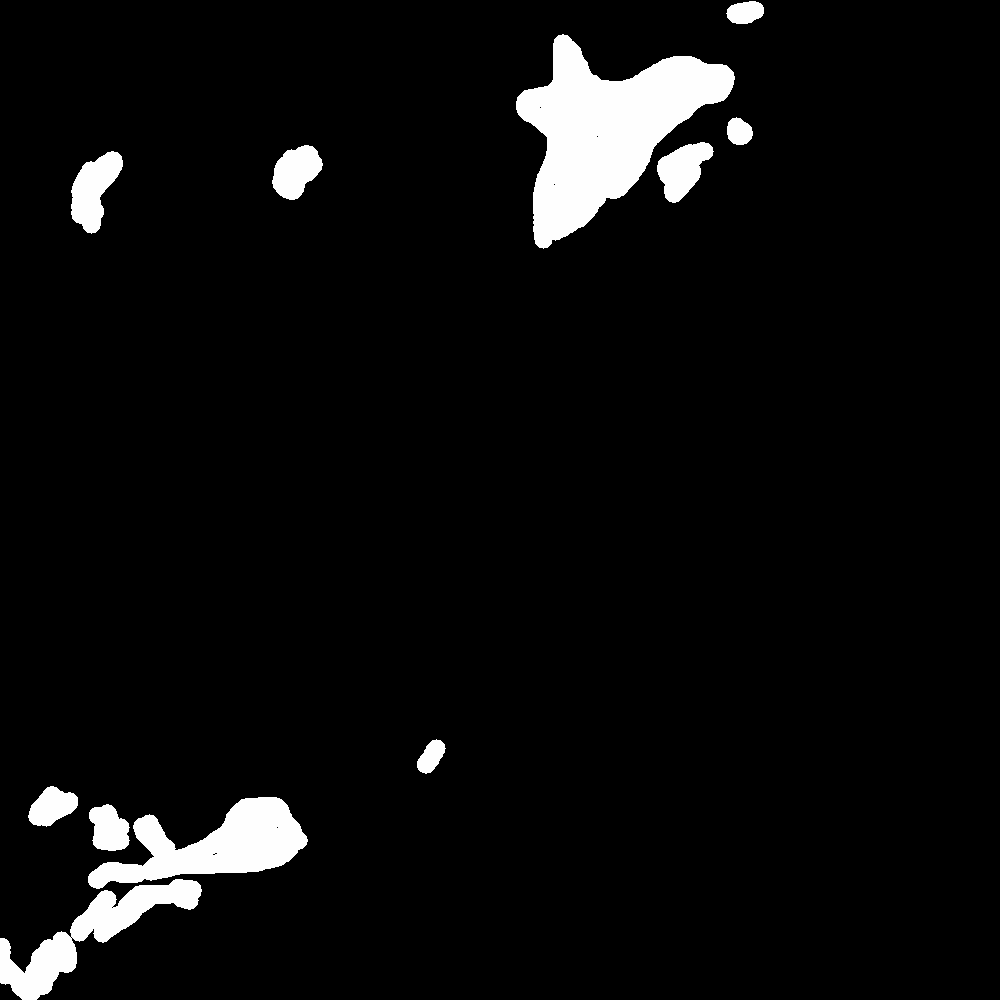illegal: (16, 788, 309, 995), (516, 30, 752, 251), (274, 142, 326, 200), (72, 158, 115, 214), (475, 683, 515, 714), (423, 742, 443, 768), (588, 552, 609, 574)
